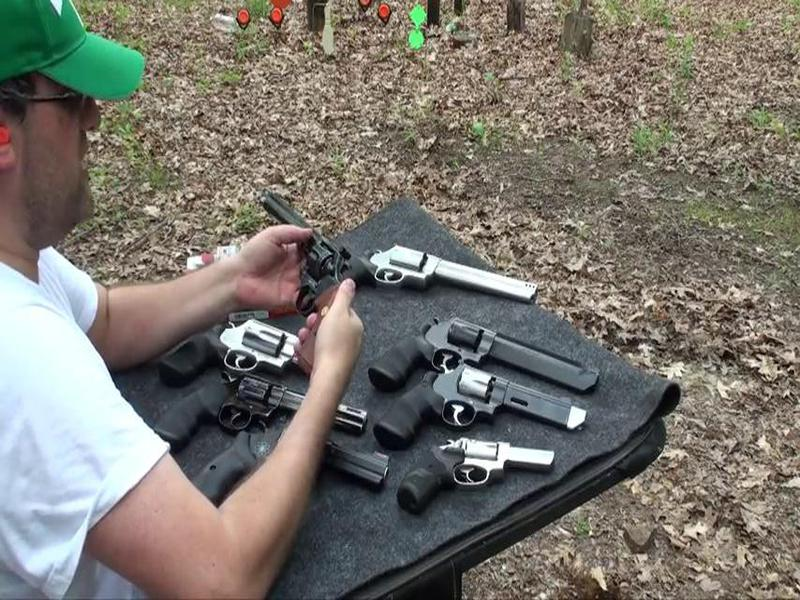Revolver: (259, 184, 365, 378)
